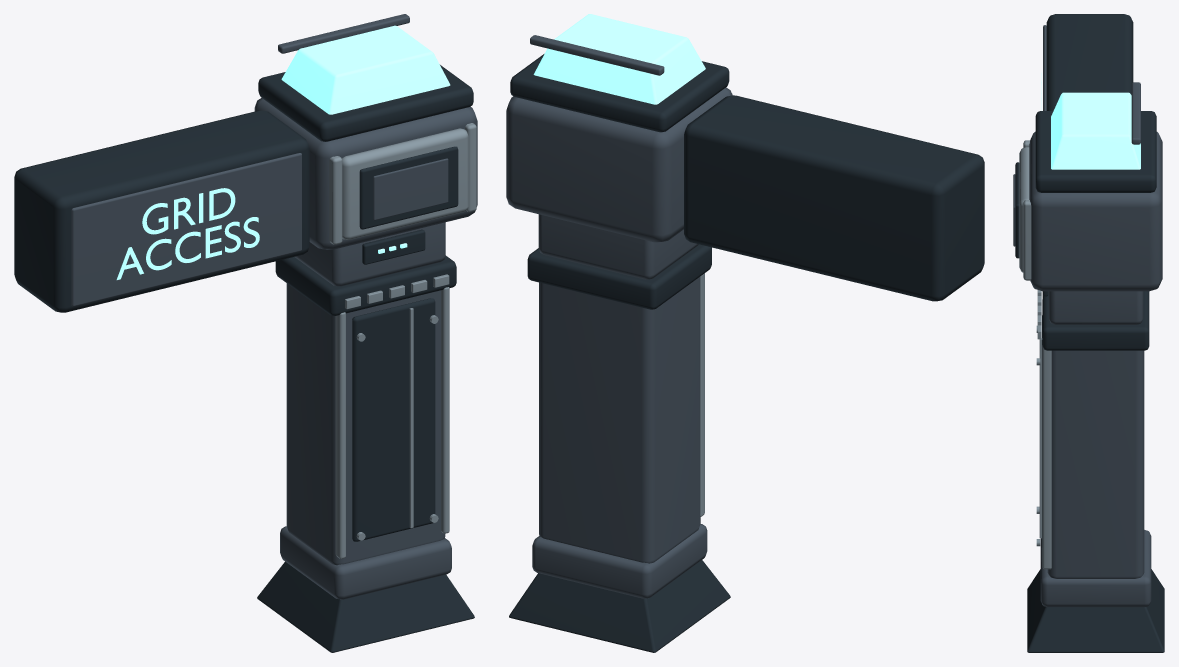
Rendered from GridTerminal.fbx.
3 renders of one model, left to right at view 1: azimuth 30°, elevation 25°; view 2: azimuth 150°, elevation 25°; view 3: azimuth 270°, elevation 25°, orthographic. The views are drawn at different scales.
Parts seen in each view (by area): view 1: GridTerminal_Dark, GridTerminal_Graphite, GridTerminal_Steel, GridTerminal_Cyan; view 2: GridTerminal_Graphite, GridTerminal_Dark, GridTerminal_Cyan, GridTerminal_Steel; view 3: GridTerminal_Graphite, GridTerminal_Dark, GridTerminal_Cyan, GridTerminal_Steel.
Part boxes in pixels (bbox=[...]): GridTerminal_Dark: bbox=[14, 65, 474, 652]; GridTerminal_Graphite: bbox=[71, 14, 477, 599]; GridTerminal_Steel: bbox=[329, 123, 476, 558]; GridTerminal_Cyan: bbox=[116, 25, 450, 279]; GridTerminal_Graphite: bbox=[506, 35, 732, 598]; GridTerminal_Dark: bbox=[509, 54, 984, 652]; GridTerminal_Cyan: bbox=[533, 14, 705, 104]; GridTerminal_Steel: bbox=[700, 93, 732, 516]; GridTerminal_Graphite: bbox=[1013, 25, 1162, 607]; GridTerminal_Dark: bbox=[1015, 14, 1164, 652]; GridTerminal_Cyan: bbox=[1041, 73, 1140, 169]; GridTerminal_Steel: bbox=[1019, 140, 1051, 569].
Size of the model in its own units: 217 by 280 by 75.02.
